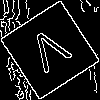V: (25, 25, 78, 82)
